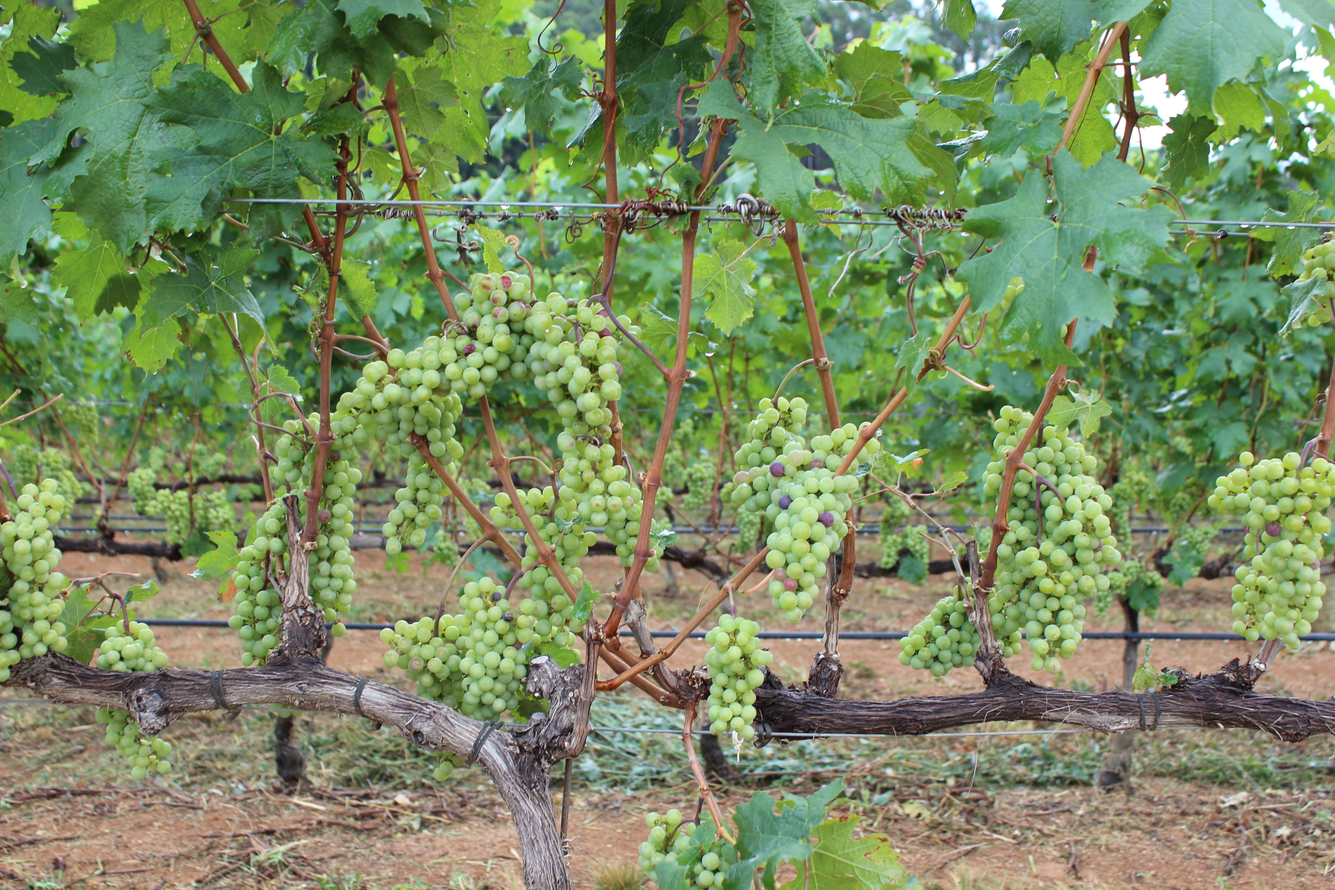leaf: (957, 148, 1172, 363), (698, 79, 928, 221), (151, 62, 335, 228), (1138, 0, 1285, 109), (733, 779, 843, 889), (137, 246, 264, 326), (781, 815, 907, 889), (747, 0, 825, 117), (0, 118, 58, 268), (0, 0, 60, 122), (501, 56, 582, 136), (1000, 0, 1098, 64), (692, 239, 756, 335), (980, 100, 1064, 157), (10, 35, 77, 96), (1163, 114, 1217, 189), (1252, 226, 1322, 277), (337, 0, 430, 38), (1047, 391, 1112, 437), (247, 203, 301, 243), (1261, 190, 1322, 224), (0, 96, 3, 106), (50, 89, 63, 91), (659, 132, 661, 137), (0, 50, 3, 53), (673, 328, 675, 332), (160, 180, 161, 182)
